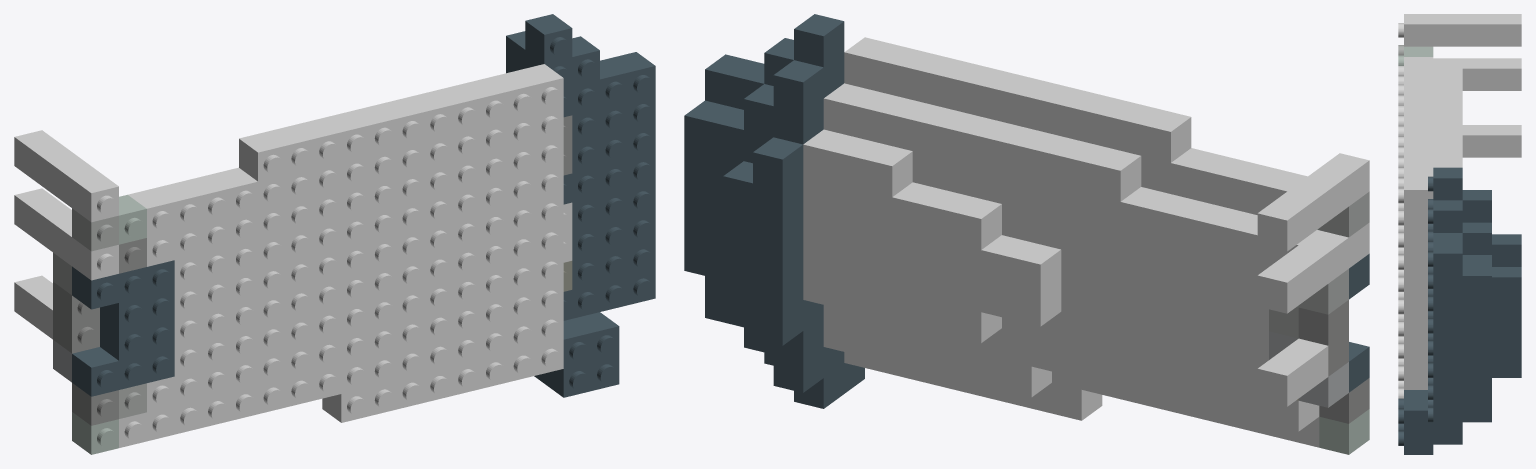
Rendered from full.glb.
3 renders of one model, left to right at view 1: azimuth 30°, elevation 25°; view 2: azimuth 150°, elevation 25°; view 3: azimuth 270°, elevation 25°, orthographic. The views are drawn at different scales.
Visible parts, largest first — view 1: world; view 2: world; view 3: world.
Boxes of the visible parts, left/top/right/bottom form: world: left=14, top=14, right=655, bottom=454; world: left=684, top=14, right=1369, bottom=454; world: left=1398, top=14, right=1521, bottom=454.
Bounding box in the file's own units: 168 × 96 × 40.2.
